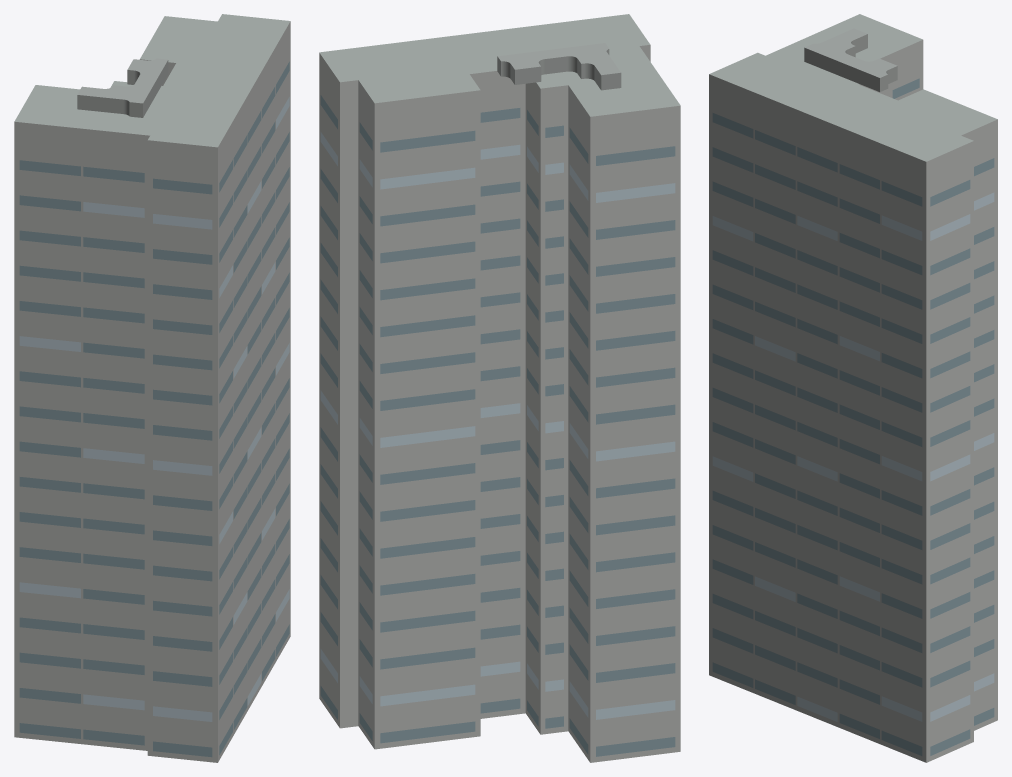
Rendered from fallback-raemian-blesstige-213.glb.
The picture shows the model from 3 angles, left to right: view 1: azimuth 30°, elevation 25°; view 2: azimuth 150°, elevation 25°; view 3: azimuth 270°, elevation 25°; orthographic projection. The views are drawn at different scales.
Visible parts, largest first — view 1: fallback-raemian-blesstige-213; view 2: fallback-raemian-blesstige-213; view 3: fallback-raemian-blesstige-213.
Boxes of the visible parts, left/top/right/bottom form: fallback-raemian-blesstige-213: left=14, top=14, right=290, bottom=762; fallback-raemian-blesstige-213: left=319, top=14, right=680, bottom=762; fallback-raemian-blesstige-213: left=709, top=14, right=997, bottom=762.
Size of the model in its own units: 53.61 by 104 by 44.25.
